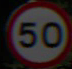Speed limit: (6, 2, 65, 59)
